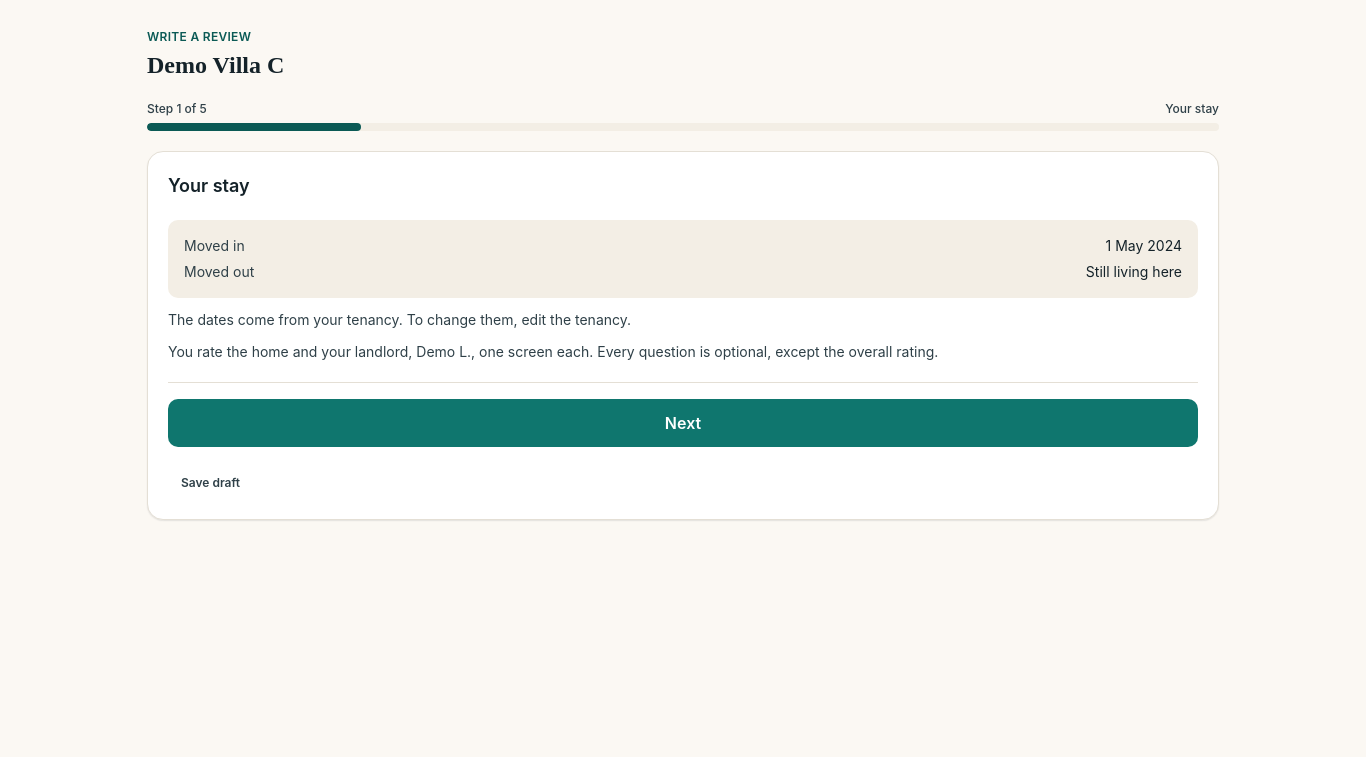
review form › rates the home and the landlord, checks, and submits both
The image size is (1366, 757).
Later steps or results of the test are not shown.
expect the element with test id "review-period" is shown: met, box [168,220,1198,298]
expect the element with test id "review-progress" shows "Step 1 of 5": met, box [147,101,1219,131]
Step 1. Click the button with test id "review-next" → (683,423), box [168,399,1198,447]
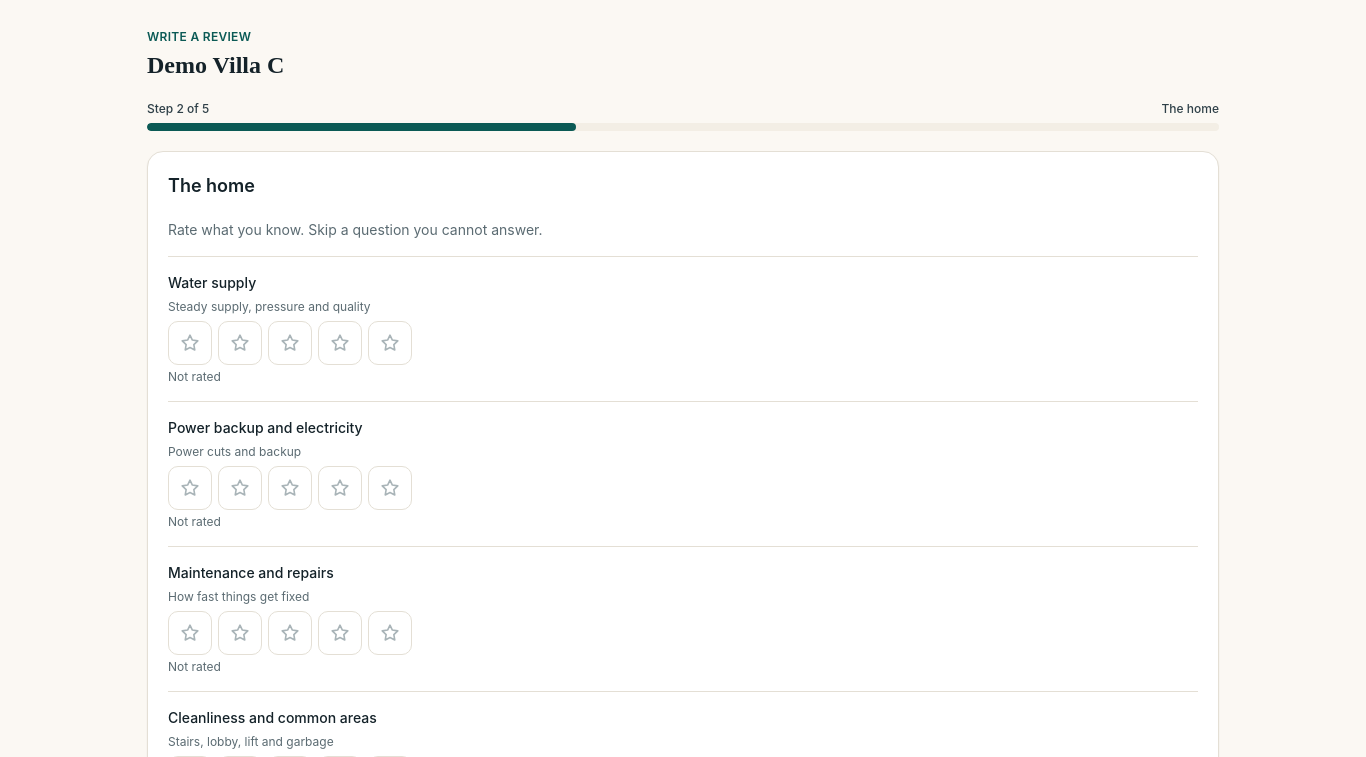
Step 2. Click the radio button with test id "rate-WATER_SUPPLY-5" → (390,343), box [368,321,412,365]
(page scrolled)
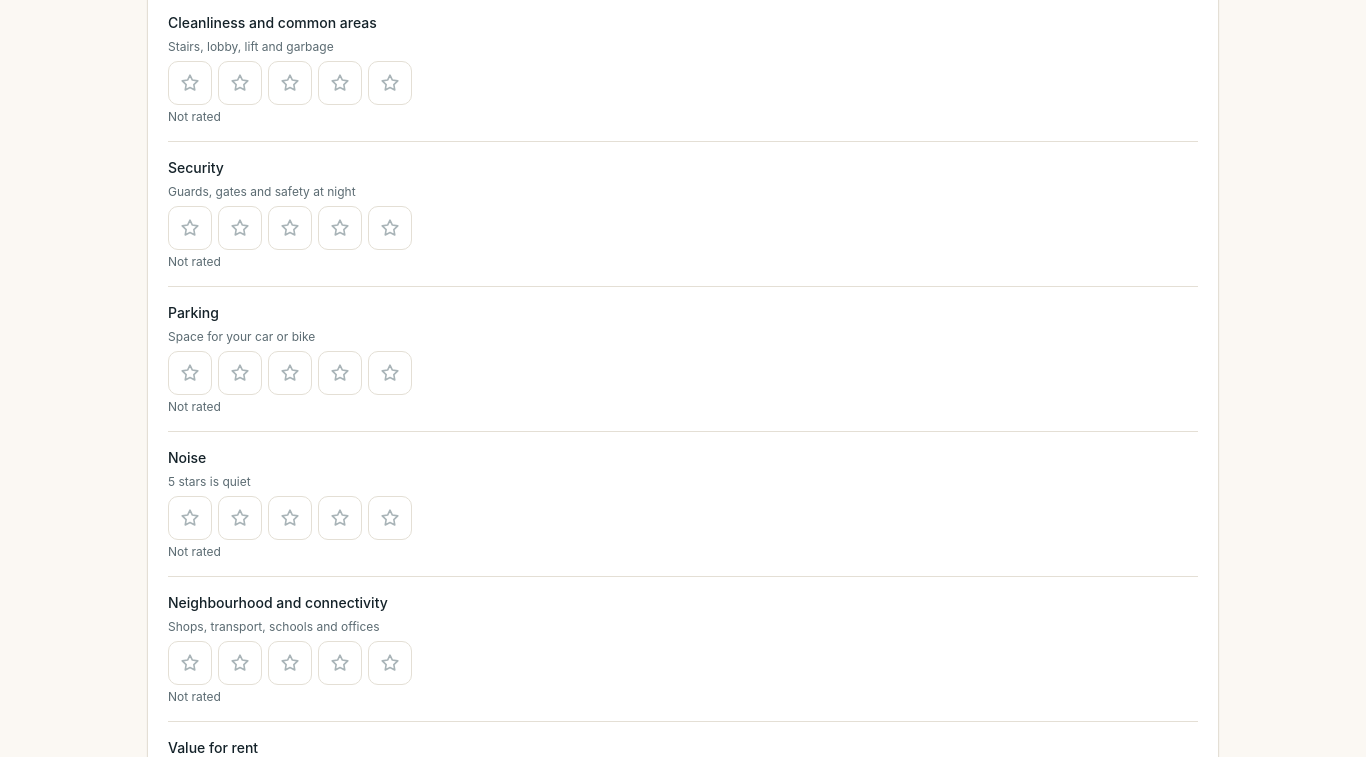
Step 3. Click the radio button with test id "rate-PARKING-3" → (290,373), box [268,351,312,395]
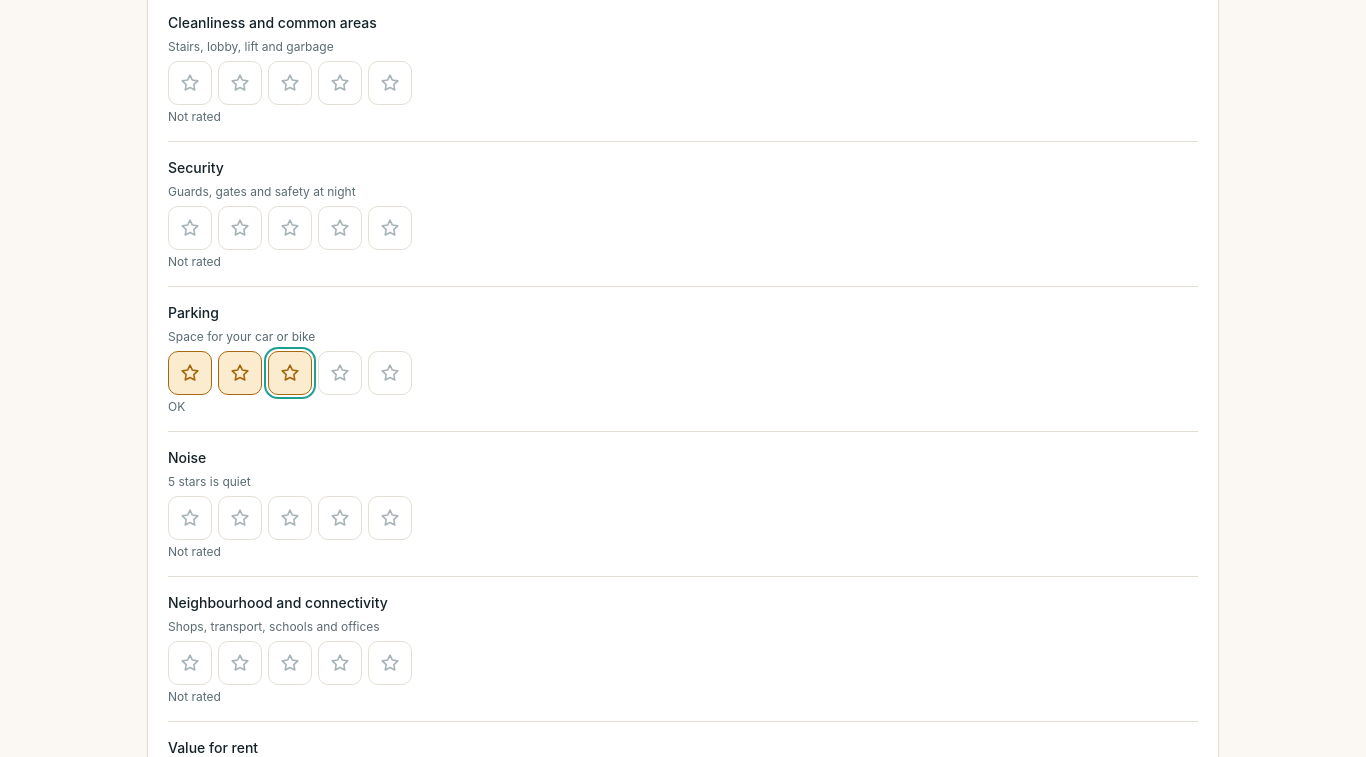
Step 4. Click the radio button with test id "rate-NOISE-2" → (240,518), box [218,496,262,540]
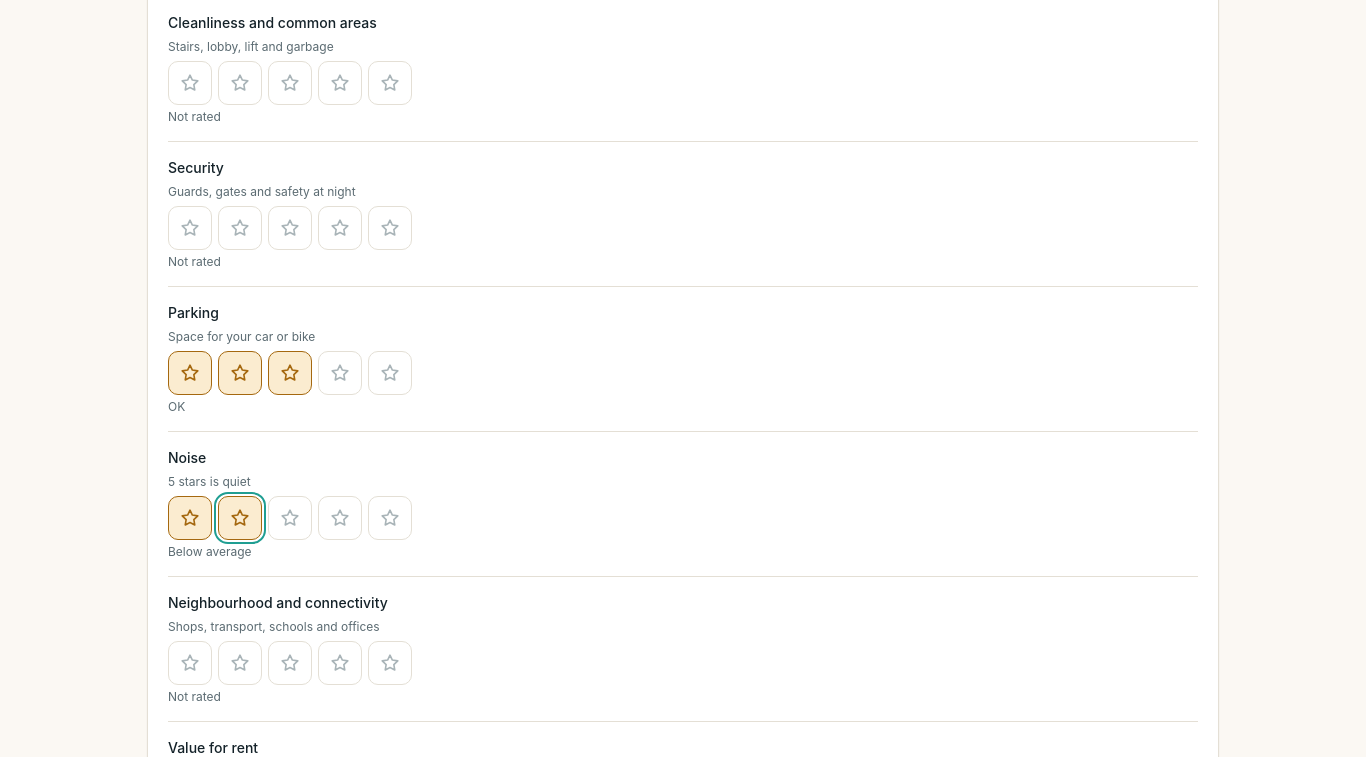
Step 5. Click the radio button with test id "rate-NOISE-2" → (240,518), box [218,496,262,540]
(page scrolled)
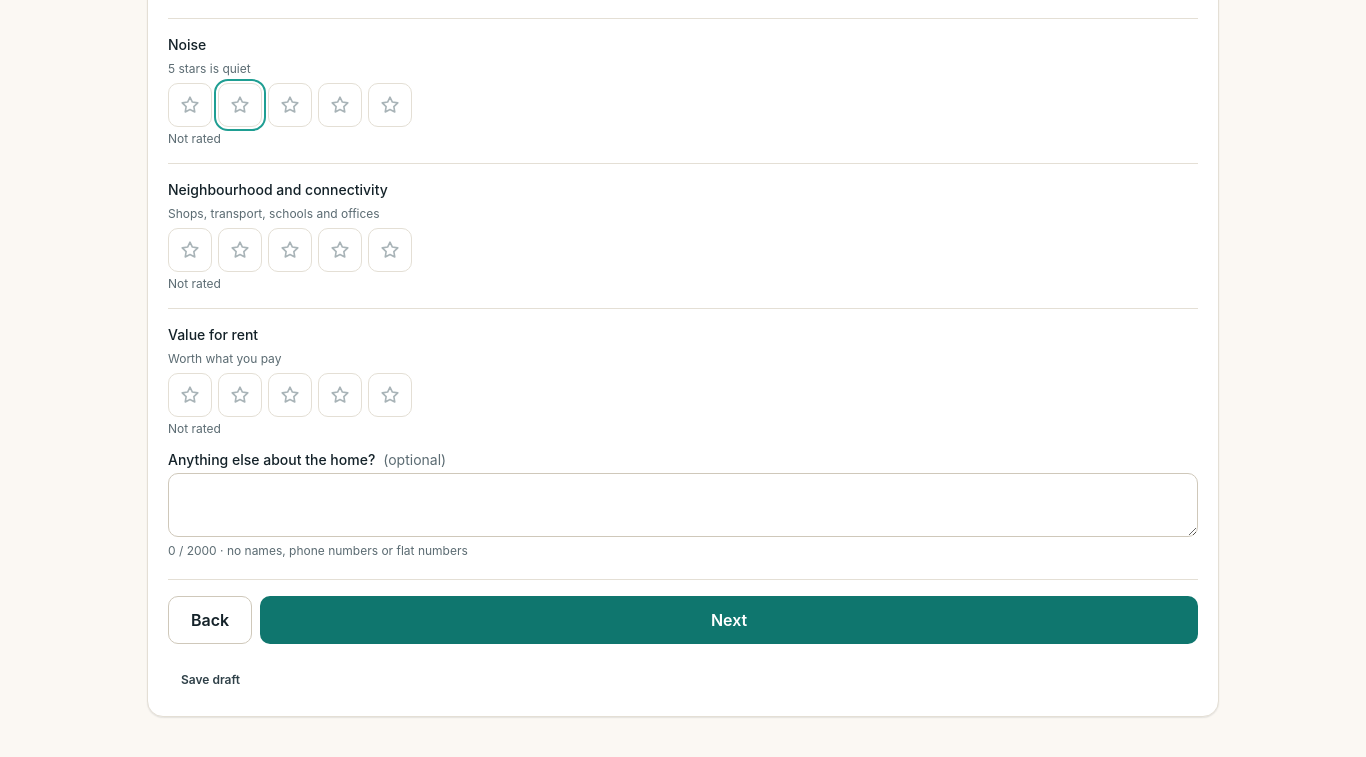
Step 6. Click the button with test id "review-next" → (729,620), box [260,596,1198,644]
(page scrolled)
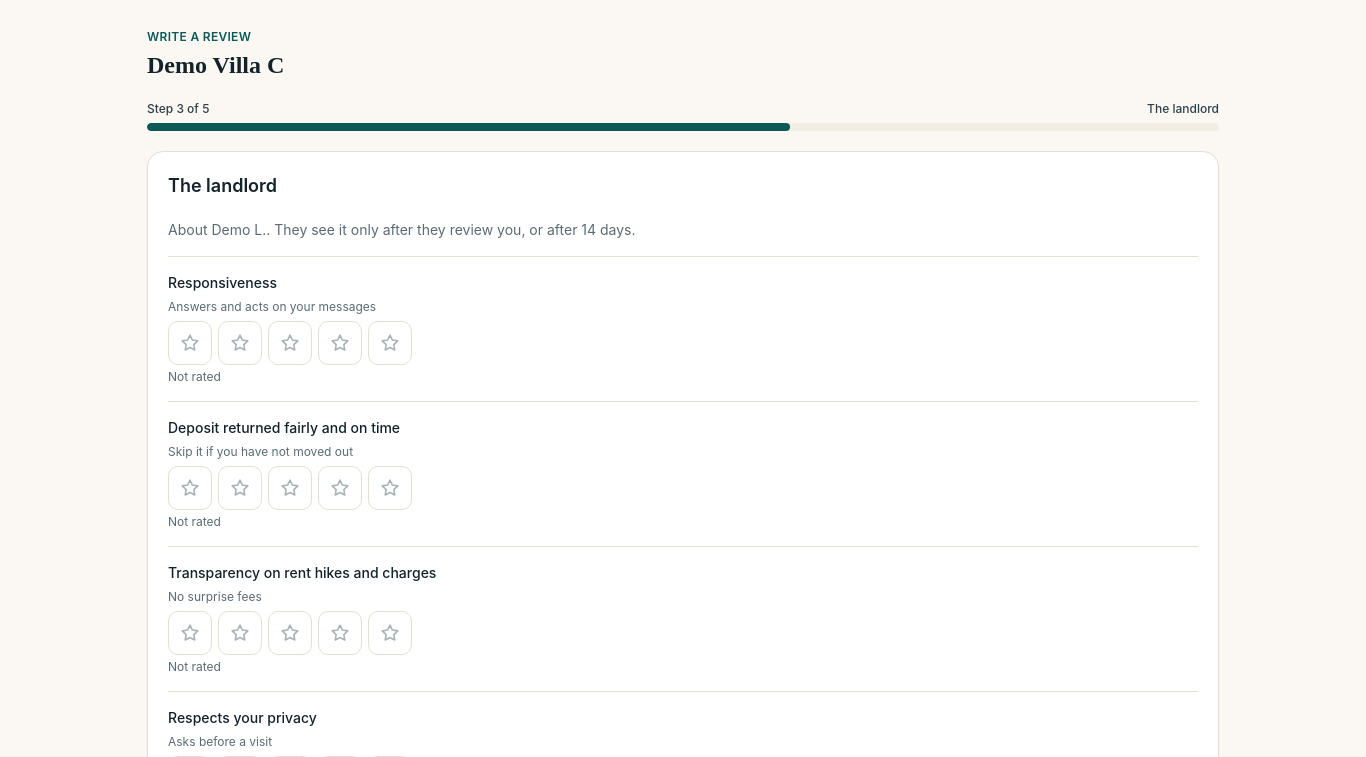
expect the element with test id "review-progress" shows "Step 3 of 5": met, box [147,101,1219,131]
